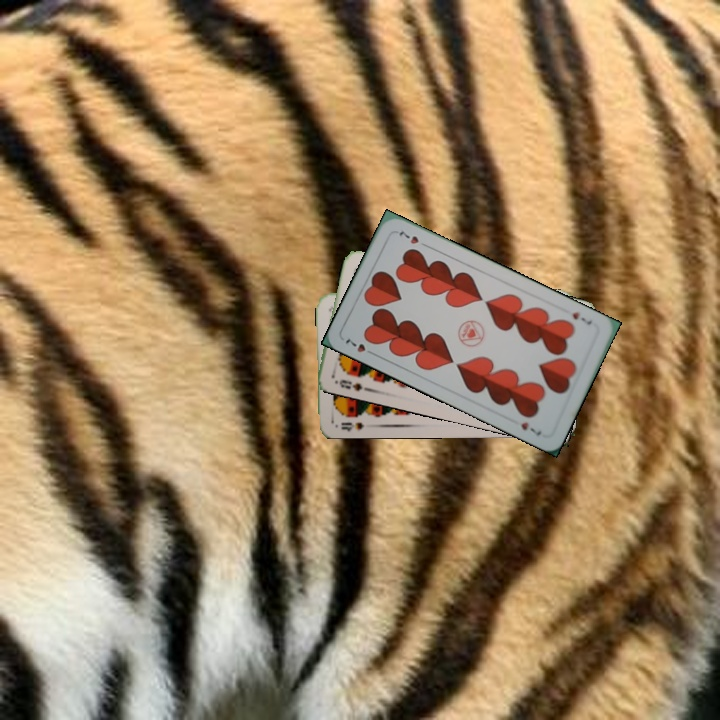H7: (341, 334, 378, 358), (568, 307, 594, 328)
S8: (335, 376, 365, 393), (337, 418, 366, 434)
